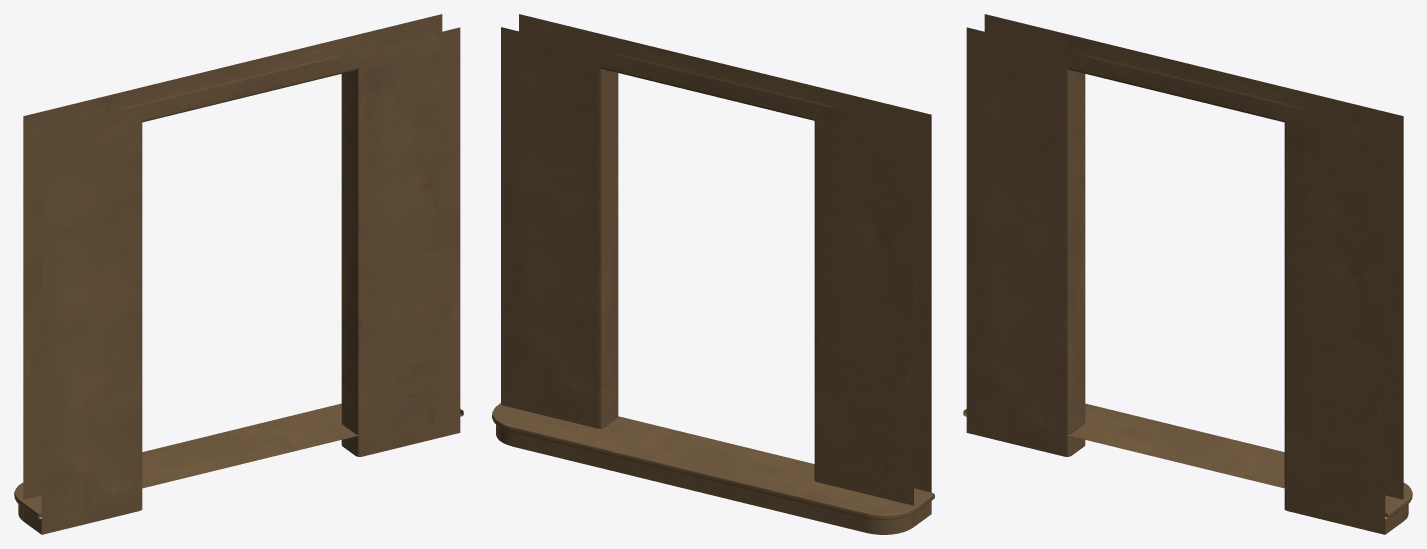
File: SM_Building04_EntranceR.fbx
3 renders of one model, left to right at view 1: azimuth 30°, elevation 25°; view 2: azimuth 150°, elevation 25°; view 3: azimuth 330°, elevation 25°, orthographic.
Parts seen in each view (by area): view 1: SM_Building04_EntranceR_LOD0; view 2: SM_Building04_EntranceR_LOD0; view 3: SM_Building04_EntranceR_LOD0.
Boxes of the visible parts, x1,y1,x2,y2 form: SM_Building04_EntranceR_LOD0: (14,14,463,534); SM_Building04_EntranceR_LOD0: (492,14,934,534); SM_Building04_EntranceR_LOD0: (963,14,1412,534).
Size of the model in its own units: 406 by 62.7 by 370.
1 material, 1 textured.
